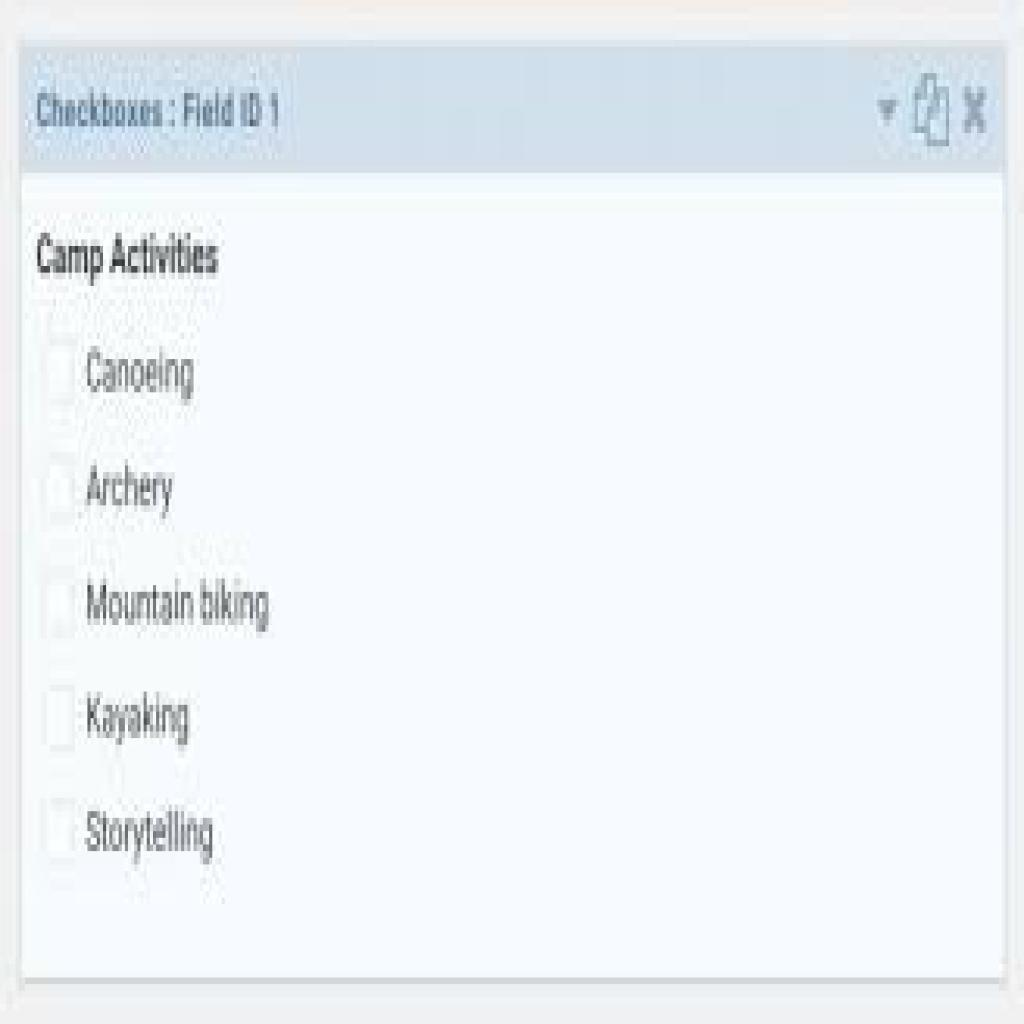checkbox: (42, 569, 78, 645), (42, 453, 78, 528), (42, 797, 75, 866), (43, 343, 77, 407), (45, 689, 76, 753)
label: (87, 571, 279, 636), (32, 229, 224, 283), (84, 805, 222, 860), (82, 341, 198, 397), (82, 687, 197, 741), (85, 460, 180, 517)
